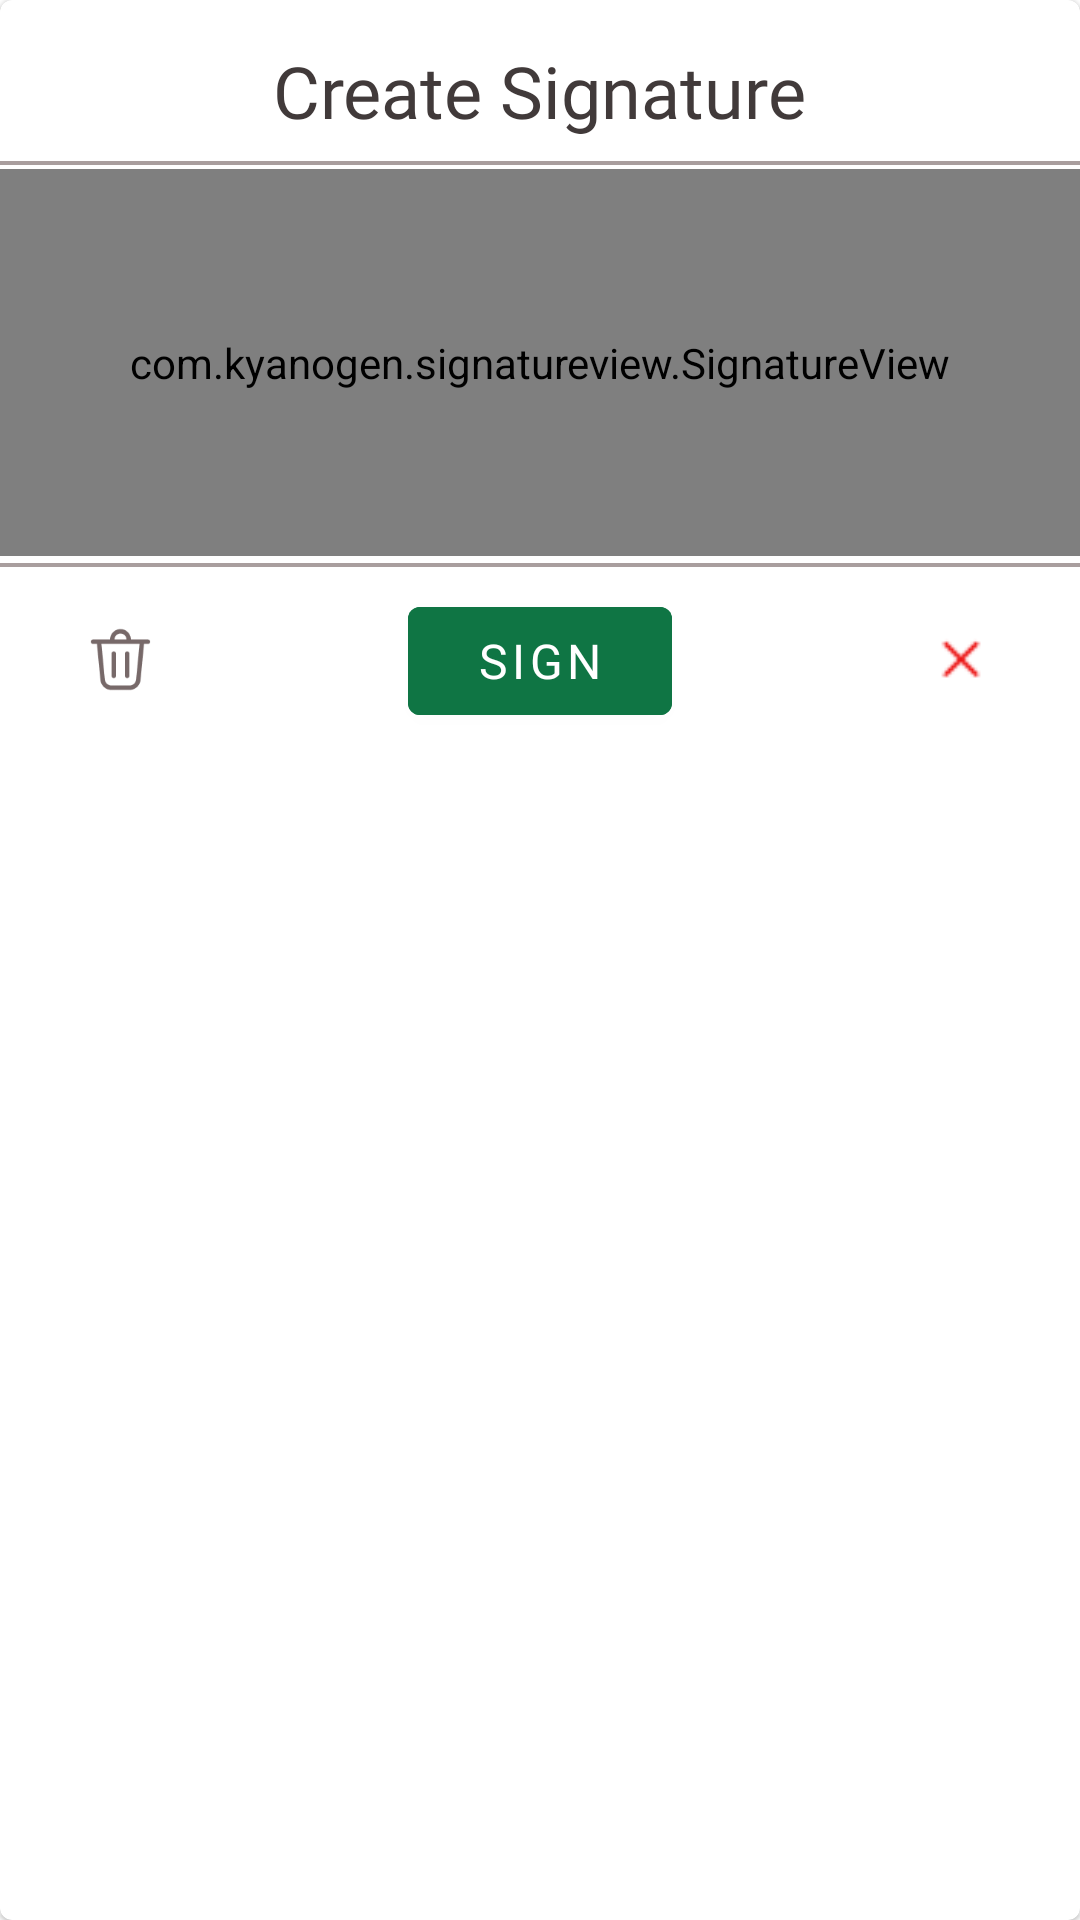

Where icons sit on this 1080px×1920px app screen, as (x1, y1, x2, y2):
cancel: (942, 641, 980, 678)
delete: (91, 629, 150, 690)
